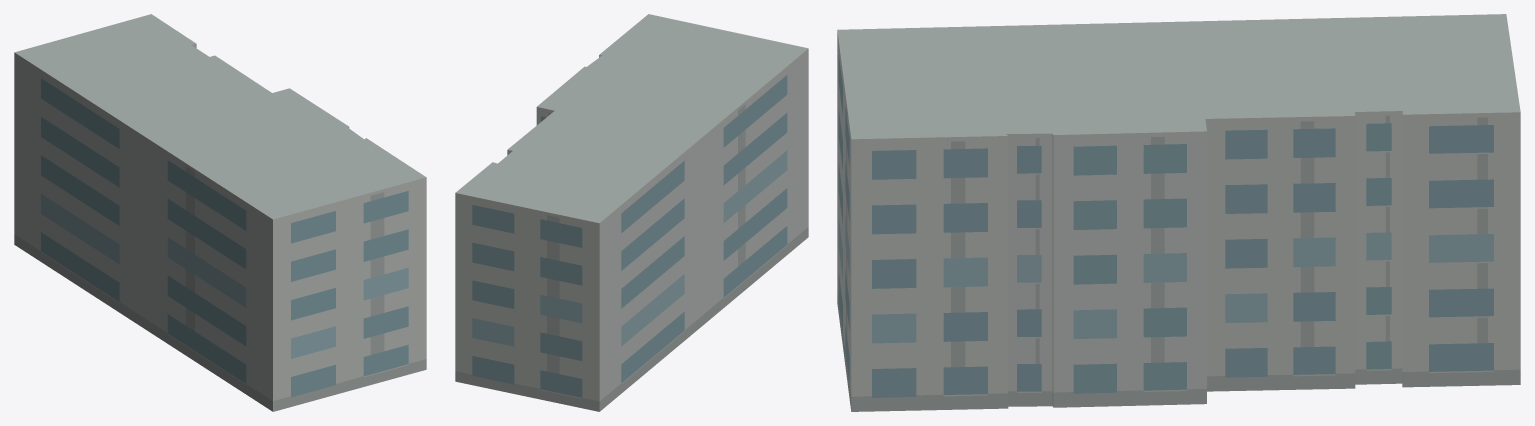
File: survey-upis-33034609.glb
The picture shows the model from 3 angles, left to right: view 1: azimuth 30°, elevation 25°; view 2: azimuth 150°, elevation 25°; view 3: azimuth 270°, elevation 25°; orthographic projection. The views are drawn at different scales.
Parts seen in each view (by area): view 1: survey-upis-33034609.tmp; view 2: survey-upis-33034609.tmp; view 3: survey-upis-33034609.tmp.
Part boxes in pixels (x1,y1,x2,y2): survey-upis-33034609.tmp: [14, 14, 426, 411]; survey-upis-33034609.tmp: [455, 14, 808, 411]; survey-upis-33034609.tmp: [837, 14, 1520, 411].
Bounding box in the file's own units: 14.99 × 15.2 × 34.54.
